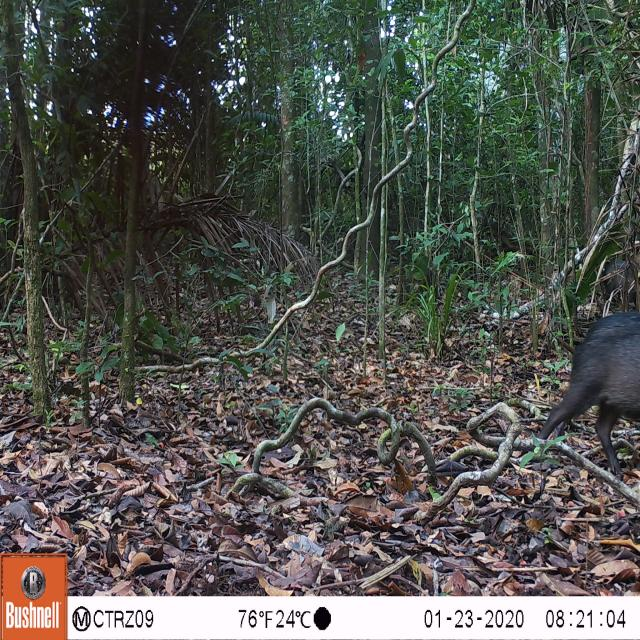Collared Peccary: (532, 302, 640, 498)
